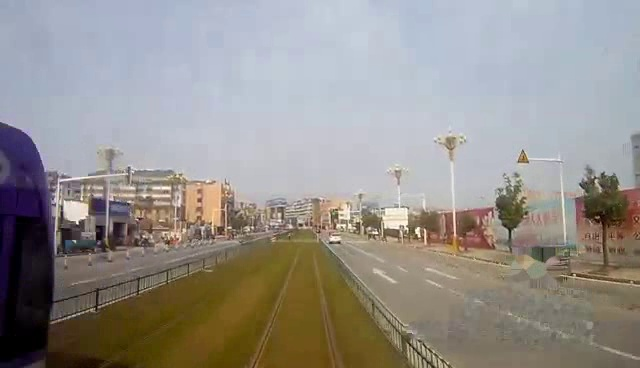car: (327, 229, 345, 247)
